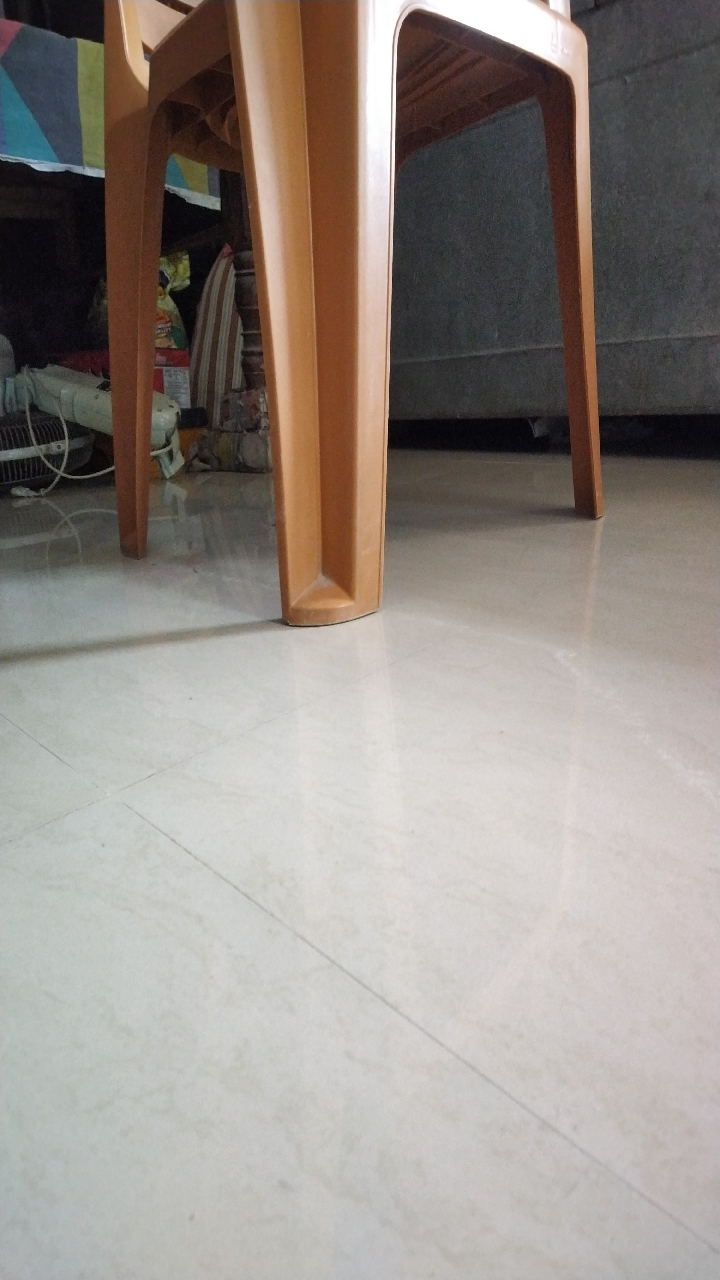Furnitures: (97, 171, 620, 644)
cables: (16, 369, 112, 494)
